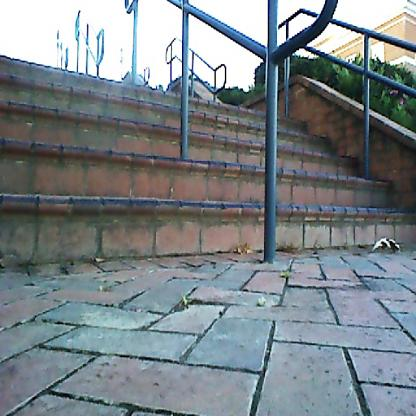Edge: (2, 225, 415, 286)
Sidewalk: (0, 242, 416, 416)
